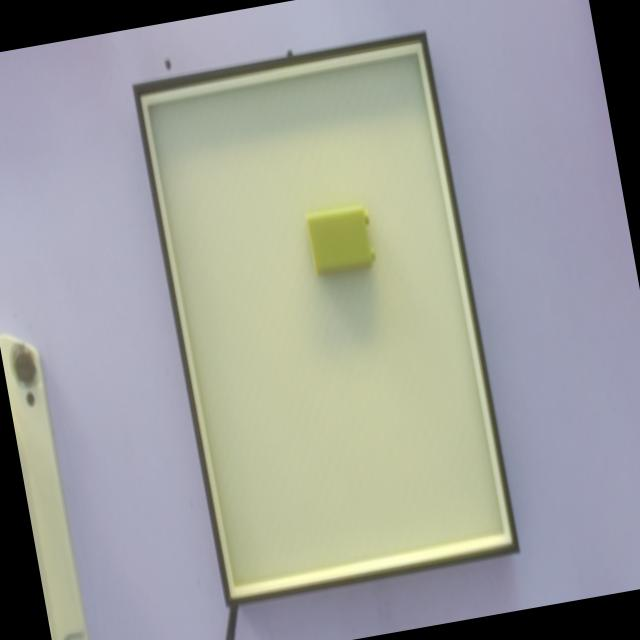bateria: (305, 205, 375, 281)
mesa: (133, 32, 519, 609)
